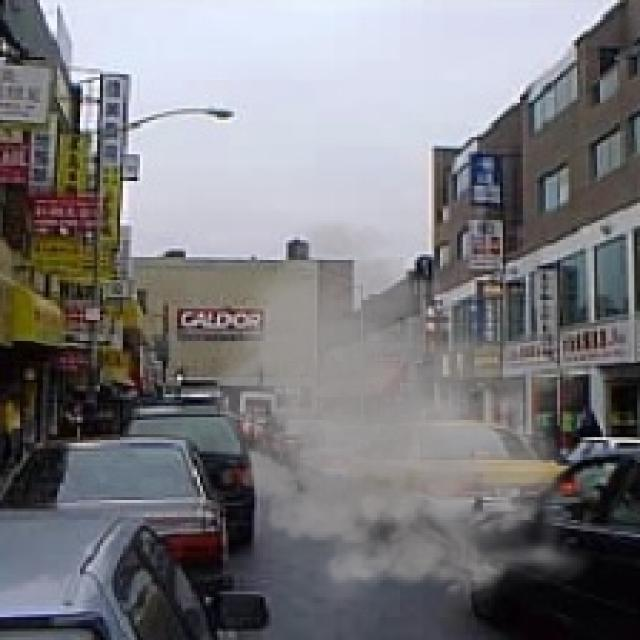smoke: (188, 206, 603, 614)
